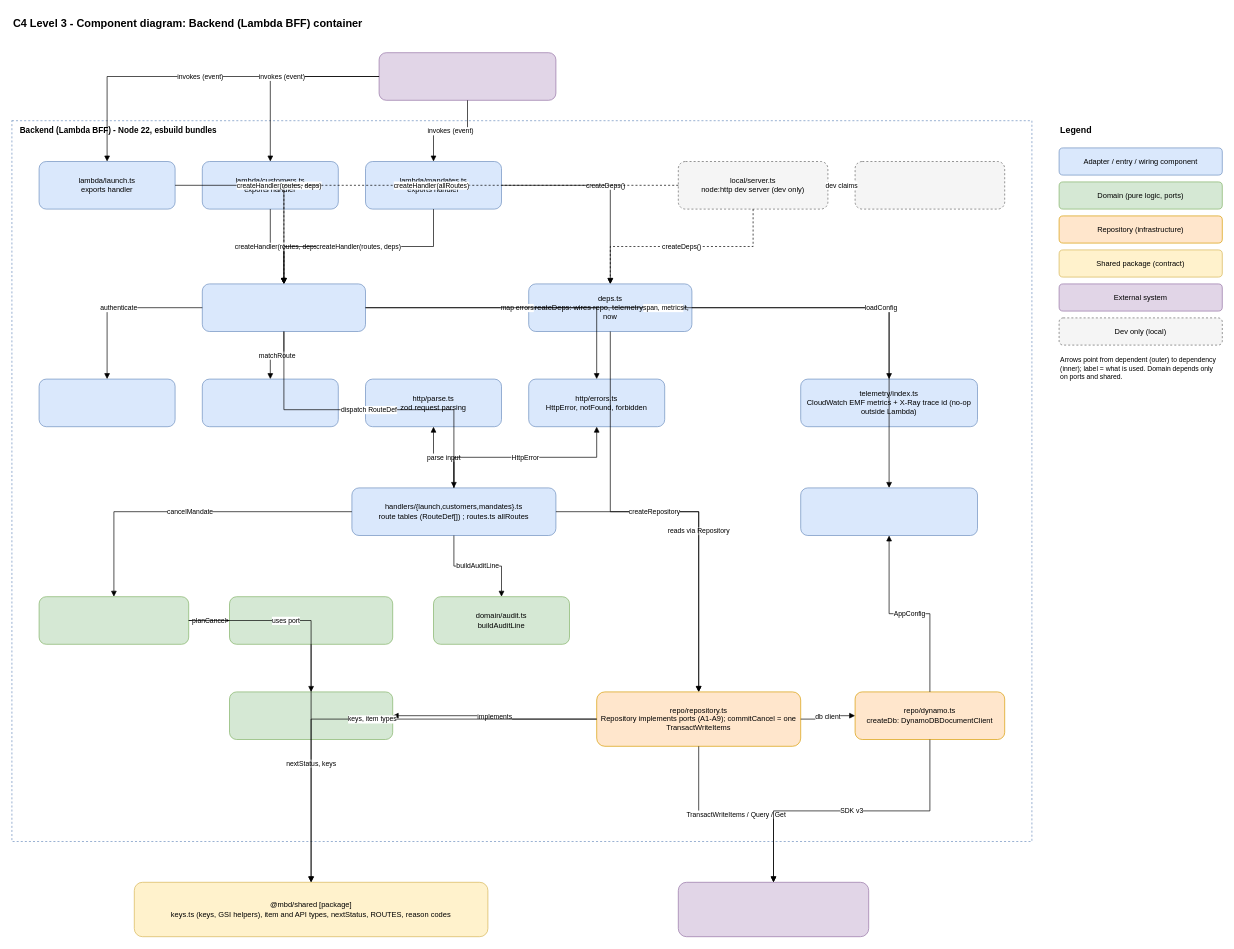
Some shapes in this 1234 by 949 pixel diagram are drawn without their labels. The box of each missing label's shape, as (x1, y1, x2, y2) in pixels:
API Gateway HTTP API v2 + JWT authorizer [external]: (378, 52, 556, 100)
config.ts loadConfig: TABLE_NAME, region, endpoint: (800, 487, 978, 536)
domain/cancelMandate.ts cancelMandate use case: (38, 596, 189, 644)
domain/mandate.ts planCancel, isCancellable, DTO mapping: (229, 596, 393, 644)
domain/ports.ts CancelRepository, CommitOutcome: (229, 691, 393, 740)
DynamoDB table bdsmini [external]: (678, 882, 869, 937)
http/auth.ts authenticate: JWT claims, banker group: (38, 378, 175, 427)
http/handler.ts createHandler: span, auth, route, error mapping: (202, 283, 366, 332)
http/router.ts matchRoute, routeLabel: (202, 378, 338, 427)
local/devAuth.ts devClaims, assertDevAuthIsLocalOnly (dev only): (854, 161, 1005, 209)
